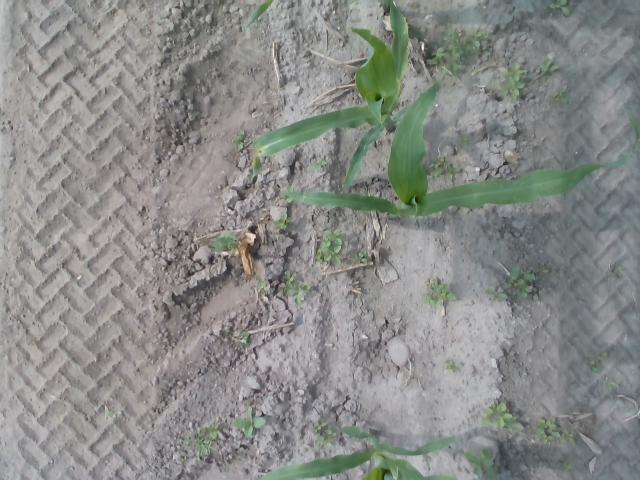Maize: (280, 82, 640, 222), (252, 1, 432, 190), (254, 423, 473, 480)
Weeds: (482, 400, 524, 434), (464, 446, 504, 480), (419, 276, 456, 308), (316, 229, 344, 270), (510, 263, 540, 301), (236, 406, 266, 440), (502, 60, 528, 99), (426, 48, 468, 70), (283, 271, 312, 302), (536, 414, 560, 448), (311, 419, 336, 450), (184, 437, 216, 460), (429, 158, 459, 182), (469, 24, 494, 48), (442, 357, 468, 378), (214, 234, 239, 255), (607, 258, 626, 285), (588, 348, 606, 376), (484, 285, 510, 304), (443, 26, 467, 46), (536, 59, 562, 77), (550, 86, 571, 107), (274, 215, 296, 234), (551, 0, 573, 19), (312, 157, 333, 176), (234, 130, 250, 154), (203, 424, 228, 438), (238, 332, 254, 350), (562, 430, 578, 448), (352, 251, 371, 265), (256, 276, 267, 299), (562, 460, 574, 474)
